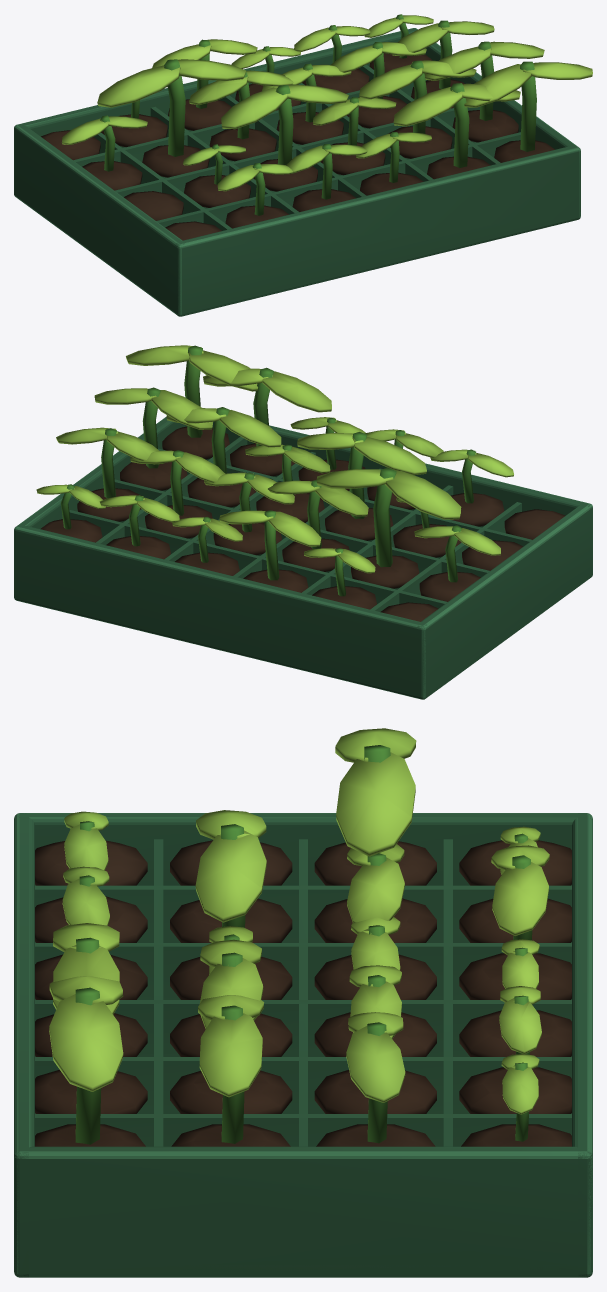
Rendered from canopy_seedling_flat.glb.
3 views of the same model, one above another, from view 1: azimuth 30°, elevation 25°; view 2: azimuth 150°, elevation 25°; view 3: azimuth 270°, elevation 25° (orthographic). The views are drawn at different scales.
Parts seen in each view (by area): view 1: canopy_seedling_flat; view 2: canopy_seedling_flat; view 3: canopy_seedling_flat.
Boxes of the visible parts, x1,y1,x2,y2 form: canopy_seedling_flat: (14, 14, 592, 316); canopy_seedling_flat: (14, 345, 592, 699); canopy_seedling_flat: (14, 728, 592, 1277).
Bounding box in the file's own units: 7.8 × 2.61 × 5.
